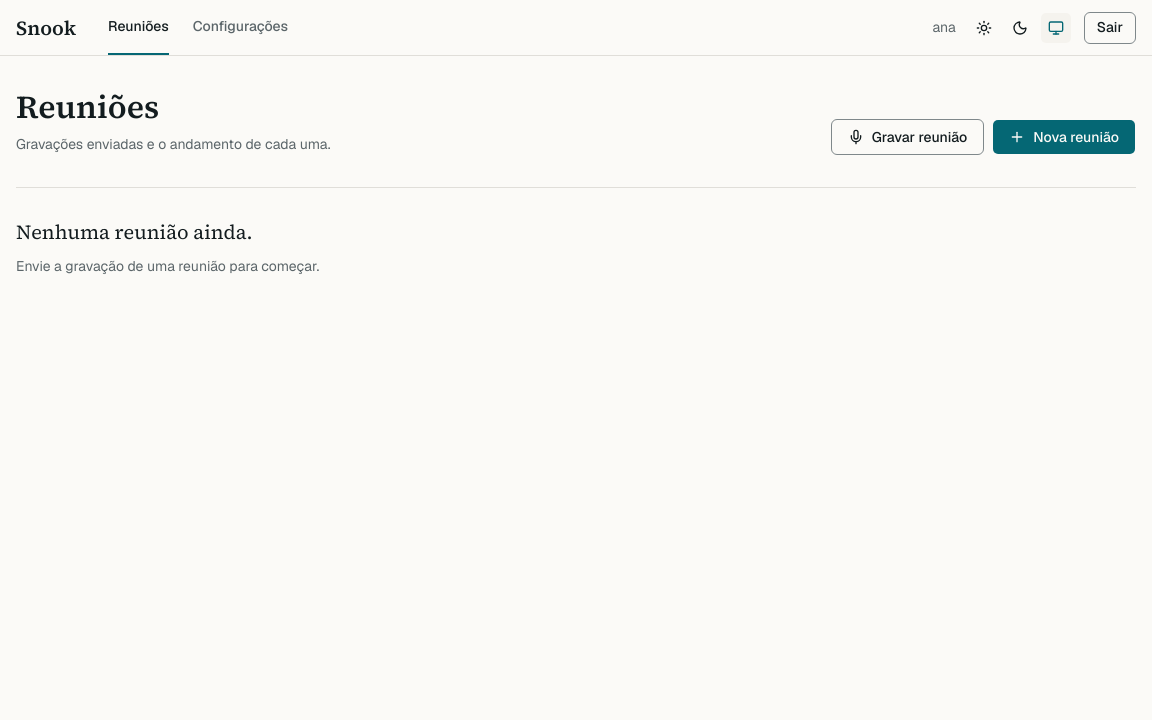
it: o aviso de consentimento aparece no upload
This screenshot has width=1152, height=720.
Click the link "Nova reunião" at (1064, 137), box [992,119,1136,155]
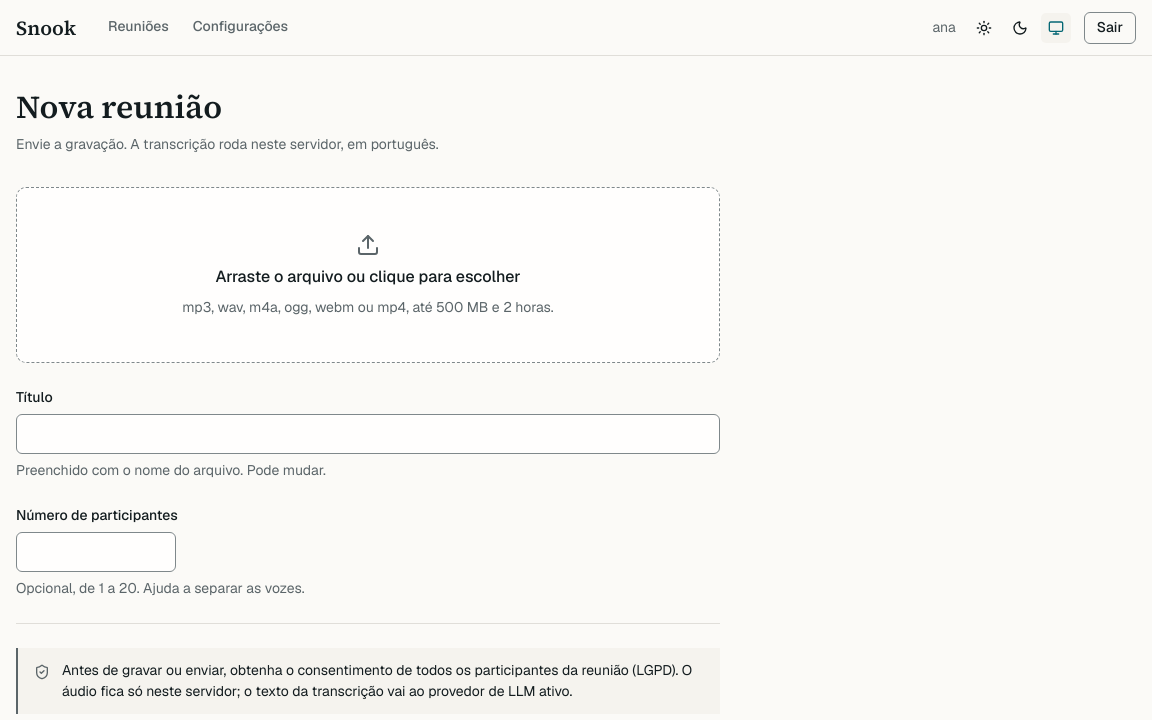
Result: the heading "Nova reunião" is shown at [16,85,222,129]
Result: the element with test id "consent-notice" shows "Antes de gravar ou enviar, obtenha o consentimento de todos os participantes da reunião (LGPD). O áudio fica só neste servidor; o texto da transcrição vai ao pr" at [62,661,692,700]
